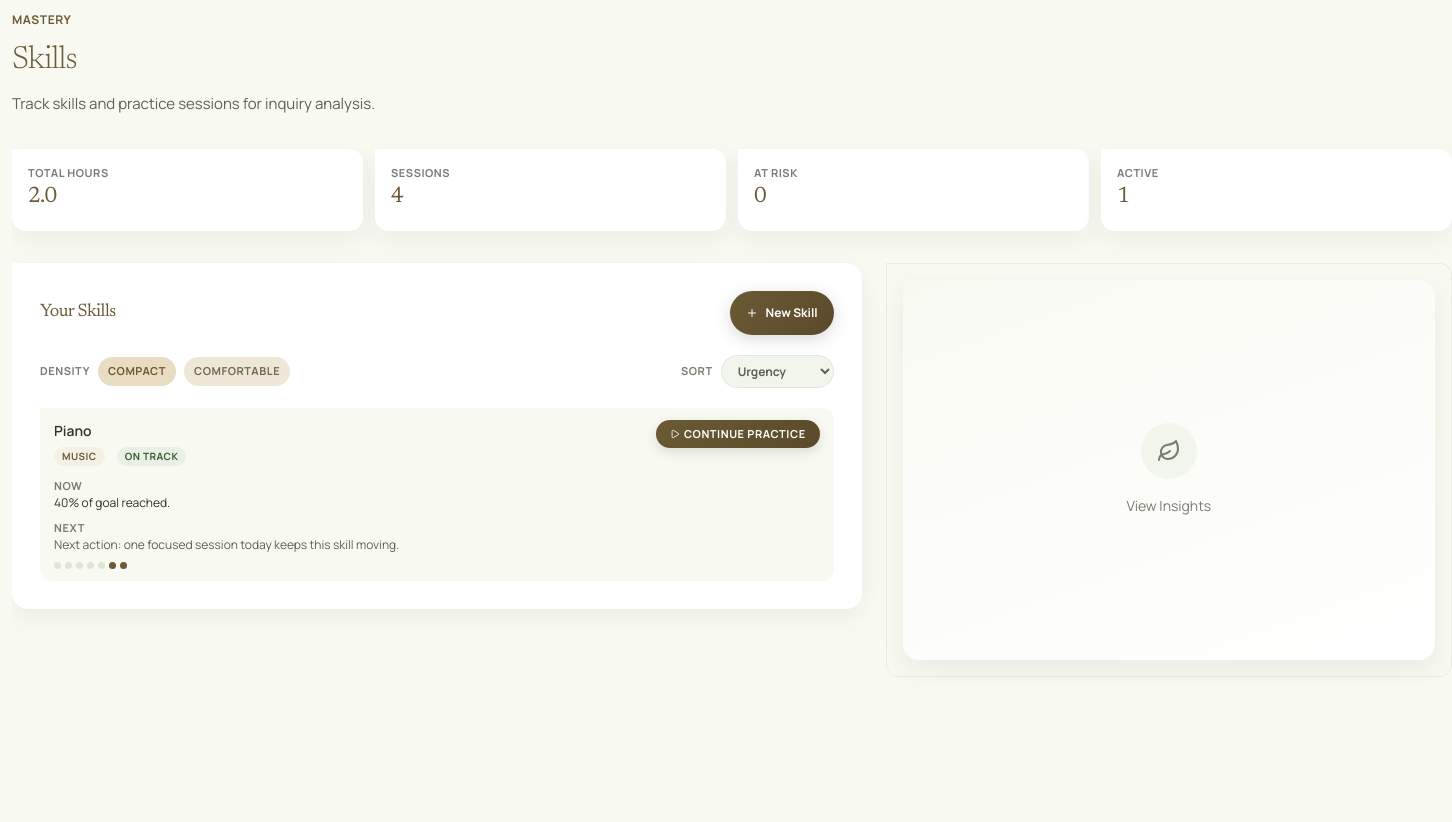
SkillsPage create flow rollout behavior › updates forecast projection with +30 minutes scenario
Click the button with aria-label "open details for piano". click: click(73, 430)
box: [40,408,834,581]
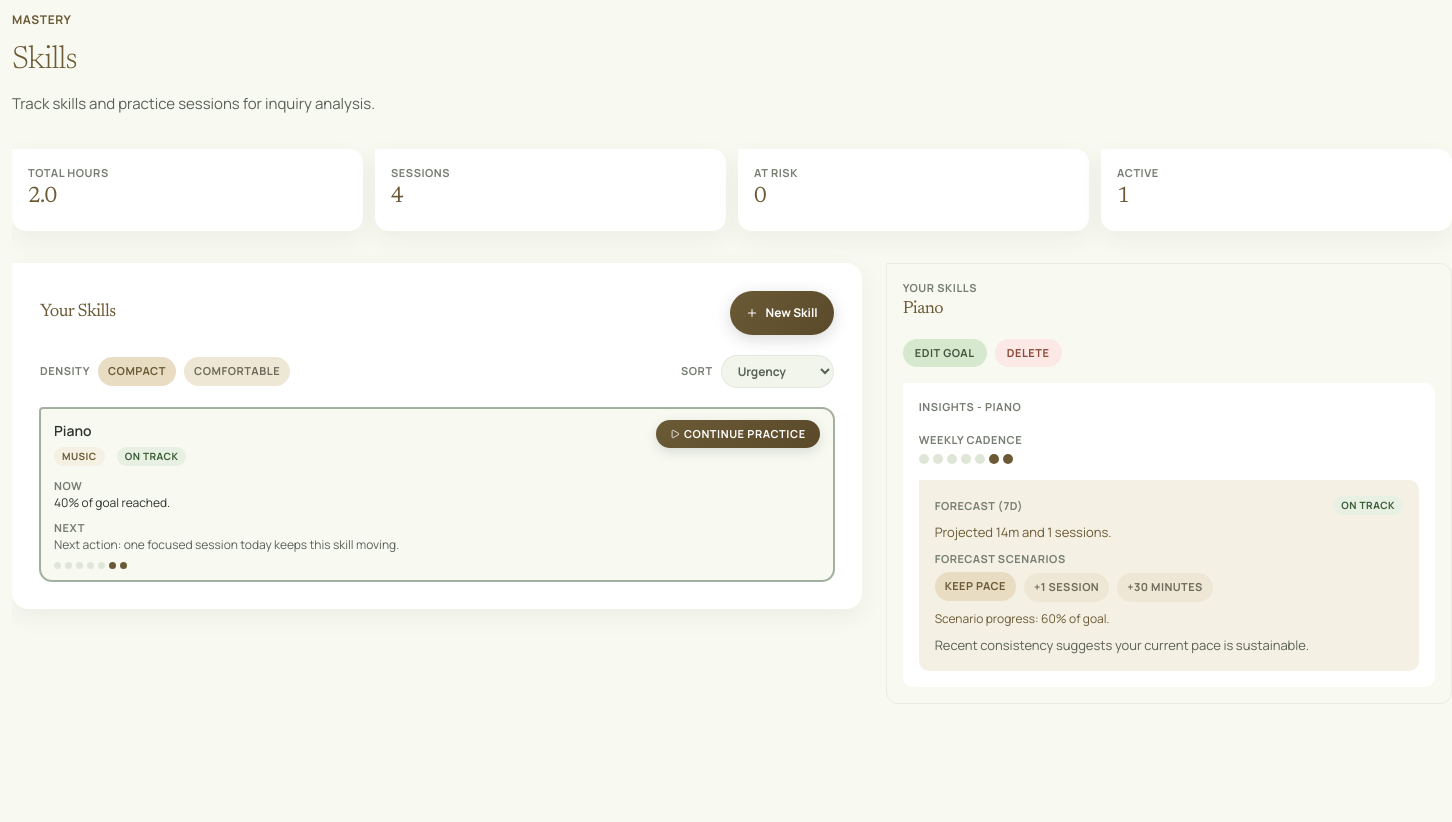
Click the button "+30 Minutes". click: click(1165, 588)
box: [1117,573,1213,602]
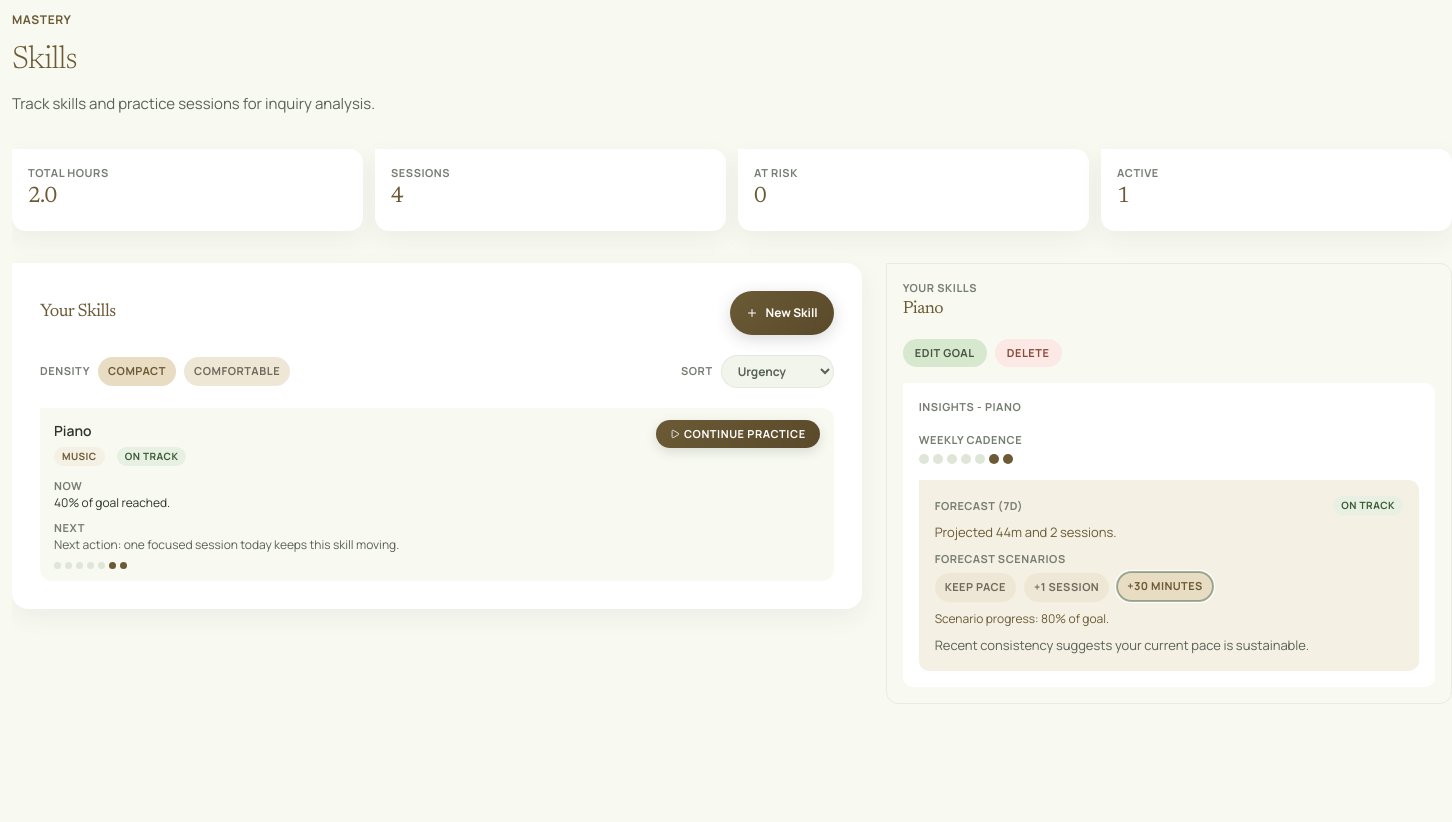
Result: the text "Projected 44m and 2 sessions." is shown at [935,523,1116,541]
